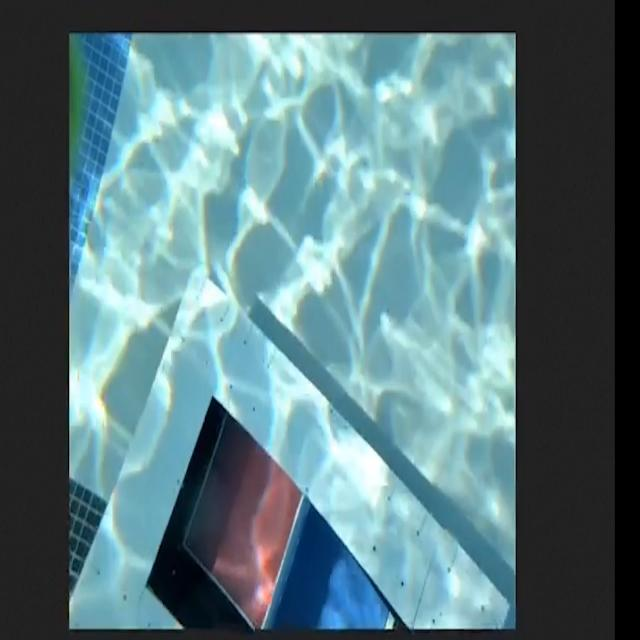Bin: (68, 265, 511, 631)
